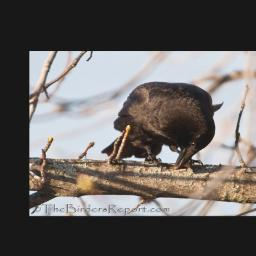Crow: (99, 80, 227, 170)
